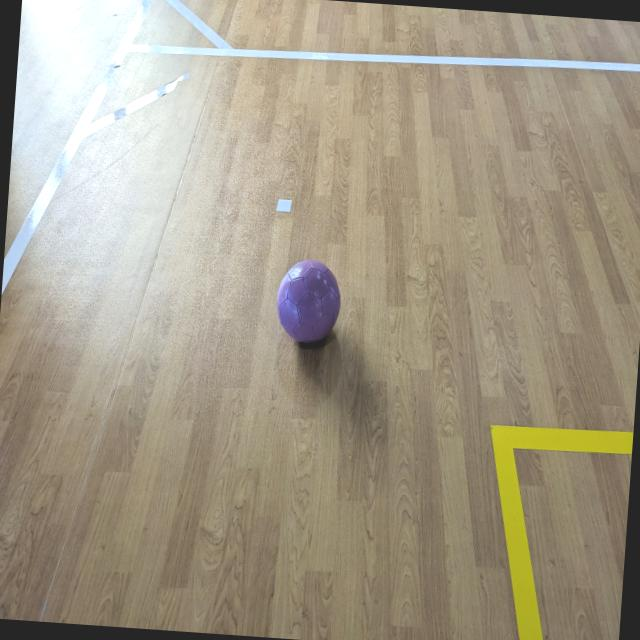purple_ball: (272, 258, 342, 348)
